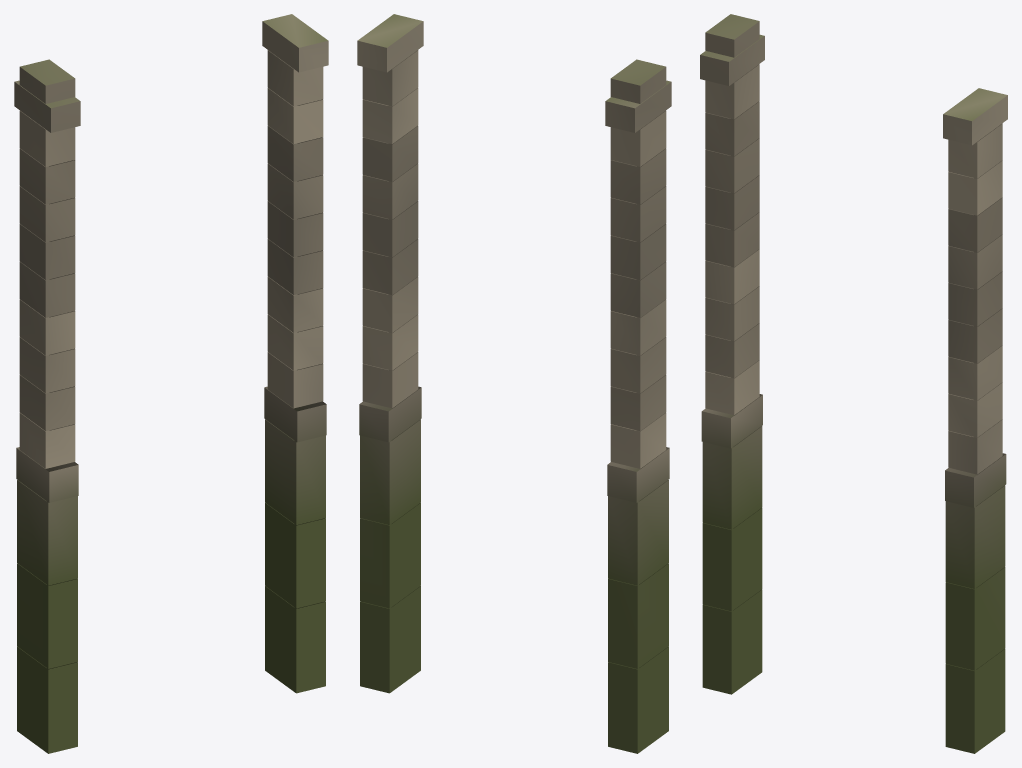
Rendered from sanctuary_slot_open_mid.glb.
3 renders of one model, left to right at view 1: azimuth 30°, elevation 25°; view 2: azimuth 150°, elevation 25°; view 3: azimuth 330°, elevation 25°, orthographic. The views are drawn at different scales.
Parts seen in each view (by area): view 1: sanctuary_slot_open_mid; view 2: sanctuary_slot_open_mid; view 3: sanctuary_slot_open_mid.
Boxes of the visible parts, x1,y1,x2,y2 form: sanctuary_slot_open_mid: (14, 14, 328, 753); sanctuary_slot_open_mid: (357, 14, 671, 753); sanctuary_slot_open_mid: (700, 14, 1007, 753).
Size of the model in its own units: 18.47 by 42.37 by 4.2.
